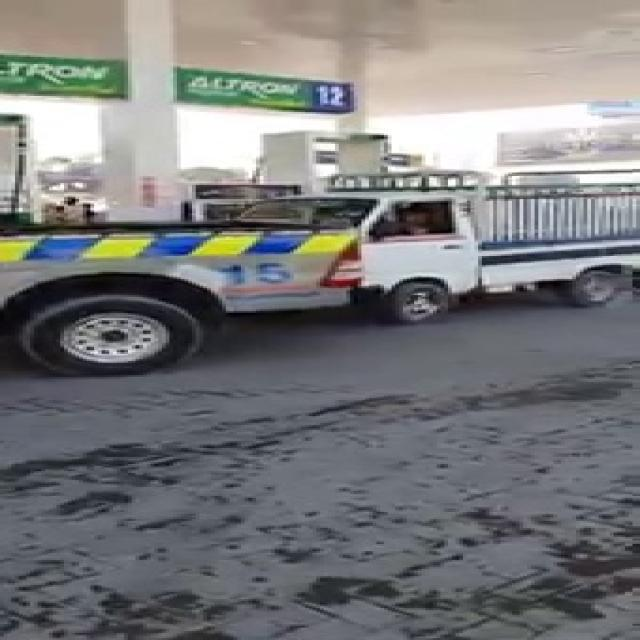police: (0, 220, 341, 374)
